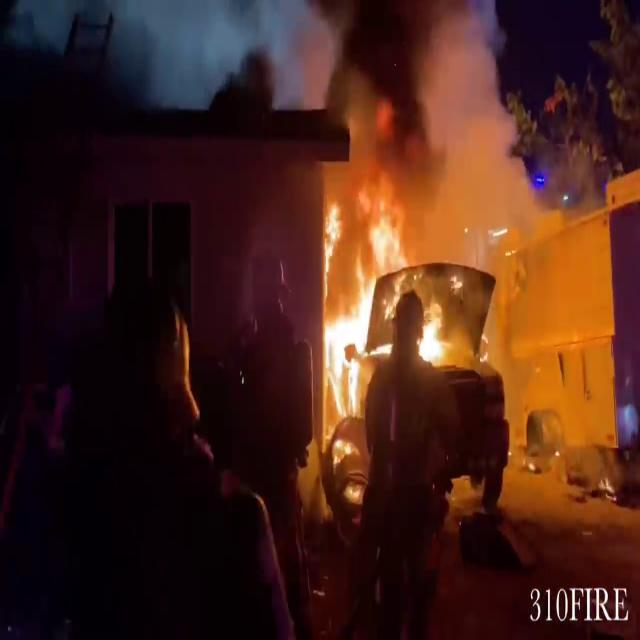Fire: (316, 202, 456, 452), (415, 300, 455, 374)
Smoke: (308, 0, 552, 251)
